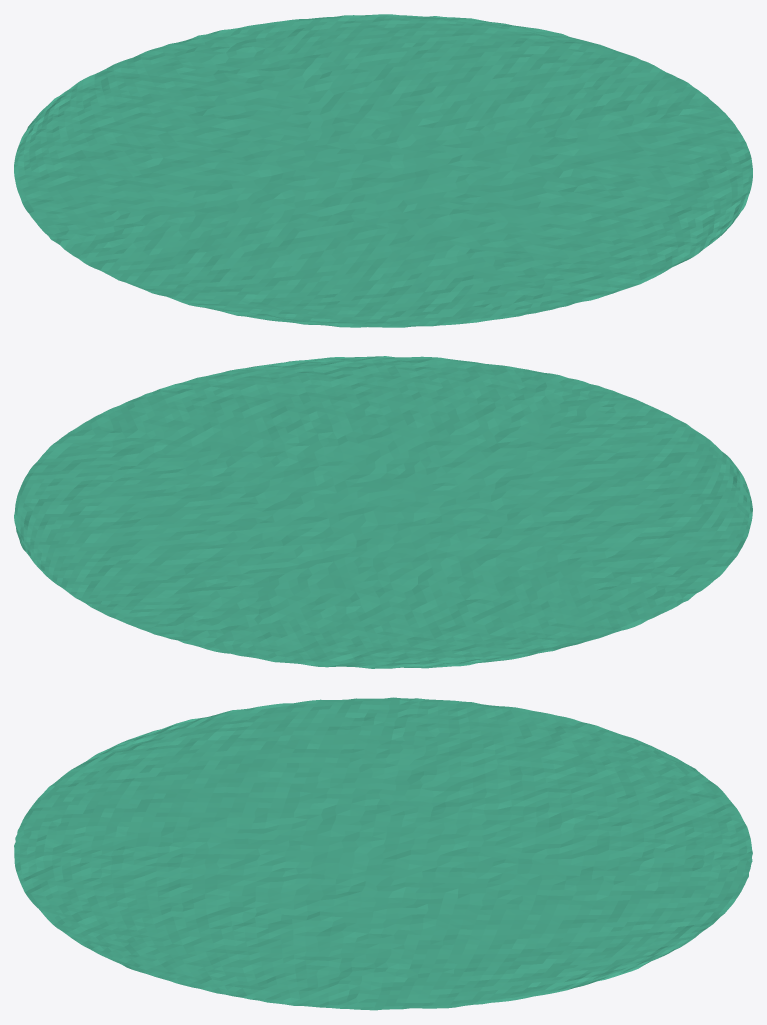
The model's file is world_4_terrain.dae.
3 views of the same model, one above another, from view 1: azimuth 30°, elevation 25°; view 2: azimuth 150°, elevation 25°; view 3: azimuth 270°, elevation 25° (orthographic).
Parts seen in each view (by area): view 1: Circle_001; view 2: Circle_001; view 3: Circle_001.
Boxes of the visible parts, box(x1,y1,x2,y2) form: Circle_001: box(14, 14, 752, 327); Circle_001: box(14, 356, 752, 668); Circle_001: box(14, 697, 752, 1010).
Bounding box in the file's own units: 127 × 128 × 0.4729.
